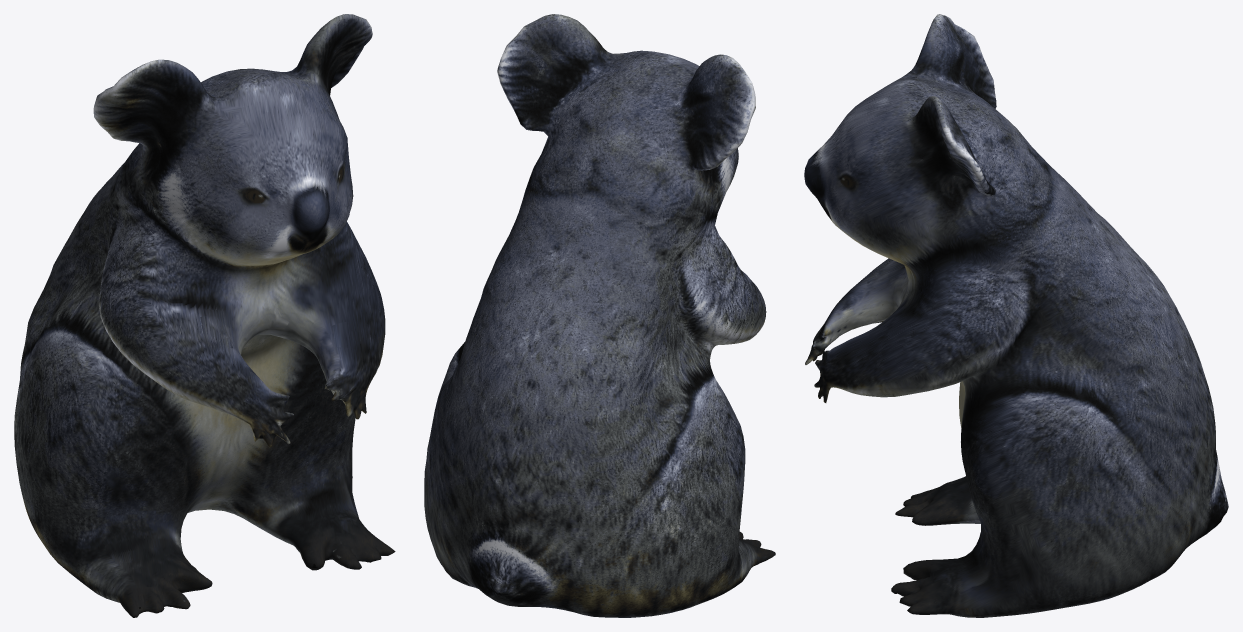
File: uploads_files_5014700_Koala_Quad.fbx
The picture shows the model from 3 angles, left to right: view 1: azimuth 30°, elevation 25°; view 2: azimuth 150°, elevation 25°; view 3: azimuth 270°, elevation 25°; orthographic projection. The views are drawn at different scales.
Parts seen in each view (by area): view 1: Koala_Quad; view 2: Koala_Quad; view 3: Koala_Quad.
Boxes of the visible parts, x1,y1,x2,y2 form: Koala_Quad: [14, 14, 395, 617]; Koala_Quad: [424, 14, 775, 617]; Koala_Quad: [804, 14, 1228, 617].
Bounding box in the file's own units: 37.62 × 62.86 × 47.77.
